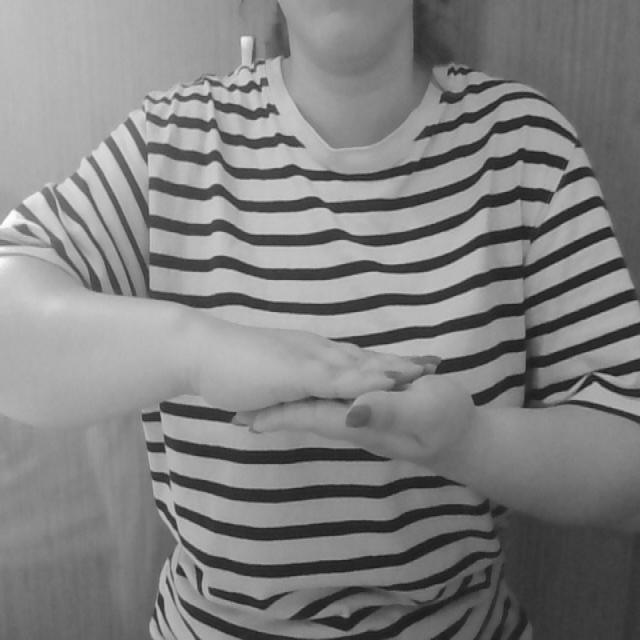Arkadas: (155, 292, 516, 498)
